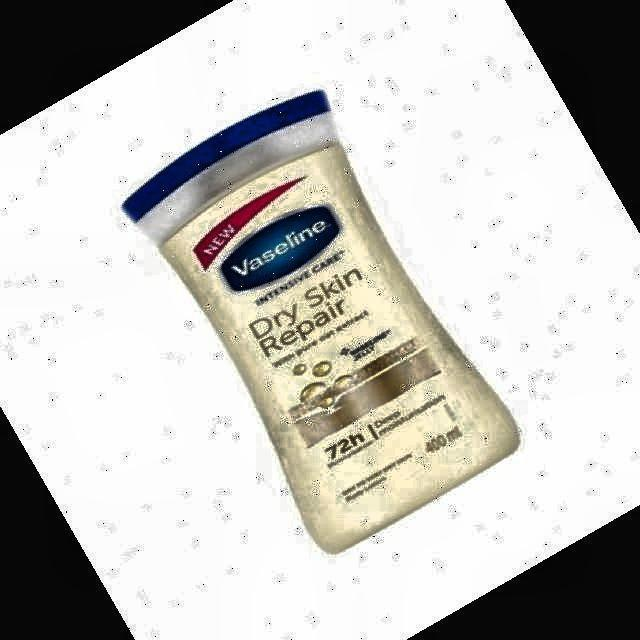plastic: (122, 90, 518, 552)
